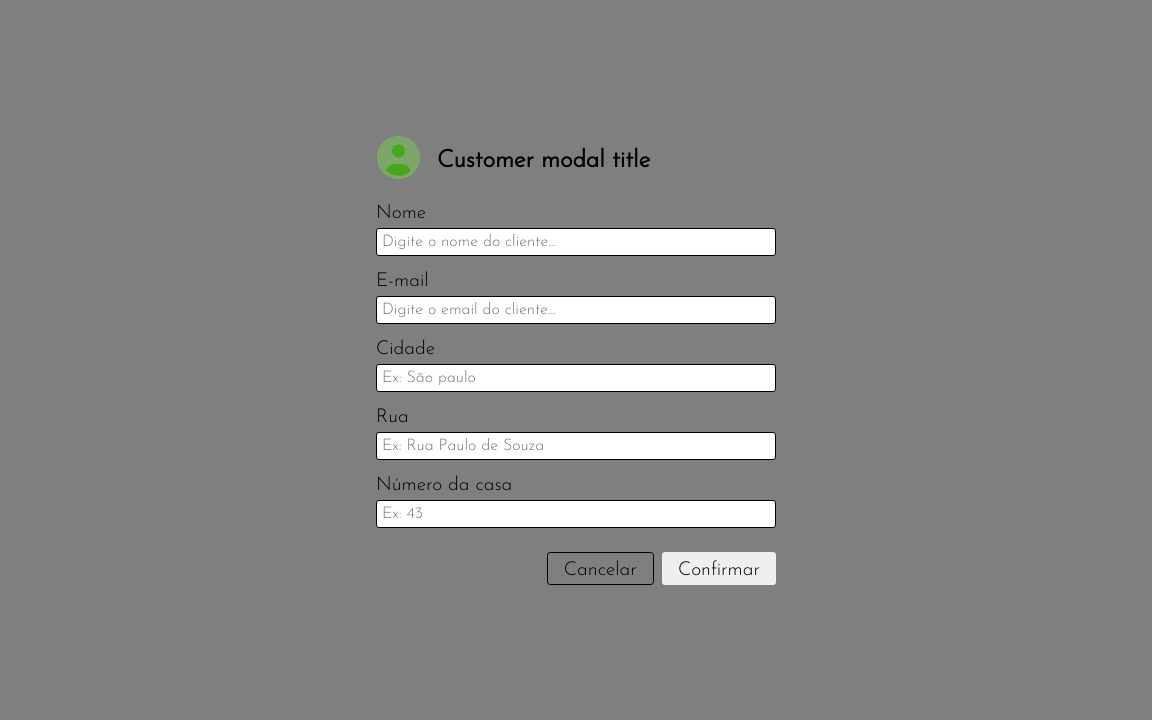
Test: CRUD - Tests › should show a error name if no name is provided
Click the button "Confirmar": [719, 568] box [662, 552, 776, 585]
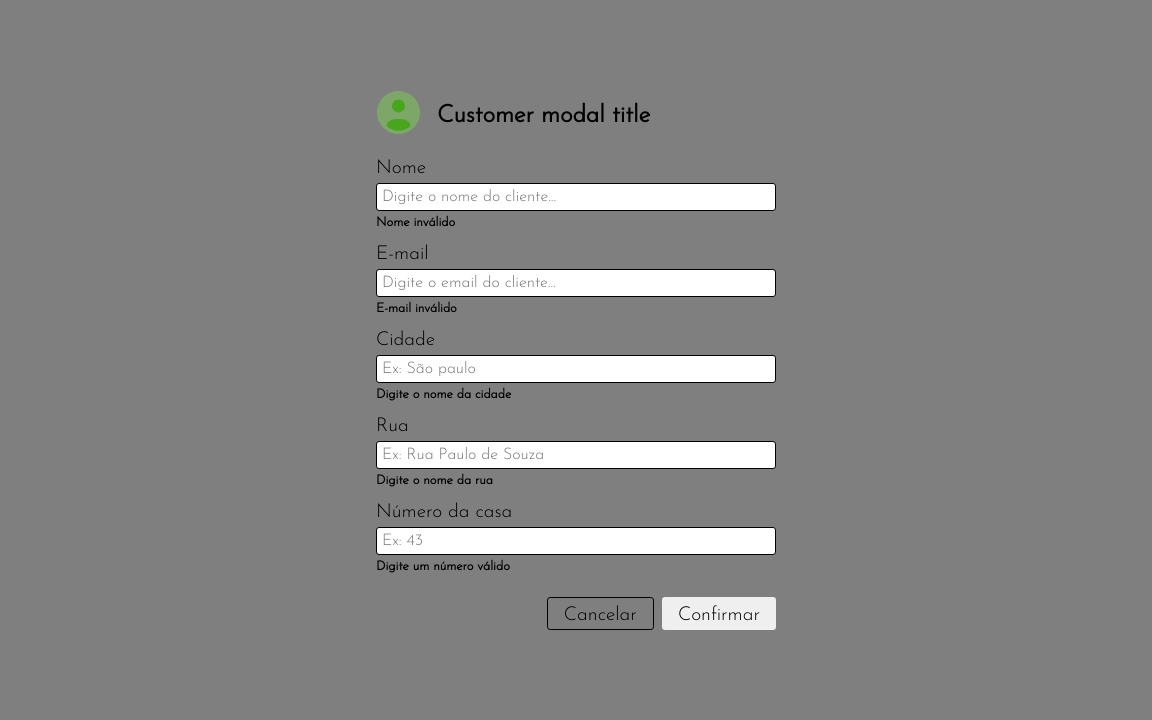
Now the text "Nome inválido" is shown, box [376, 216, 455, 229]
